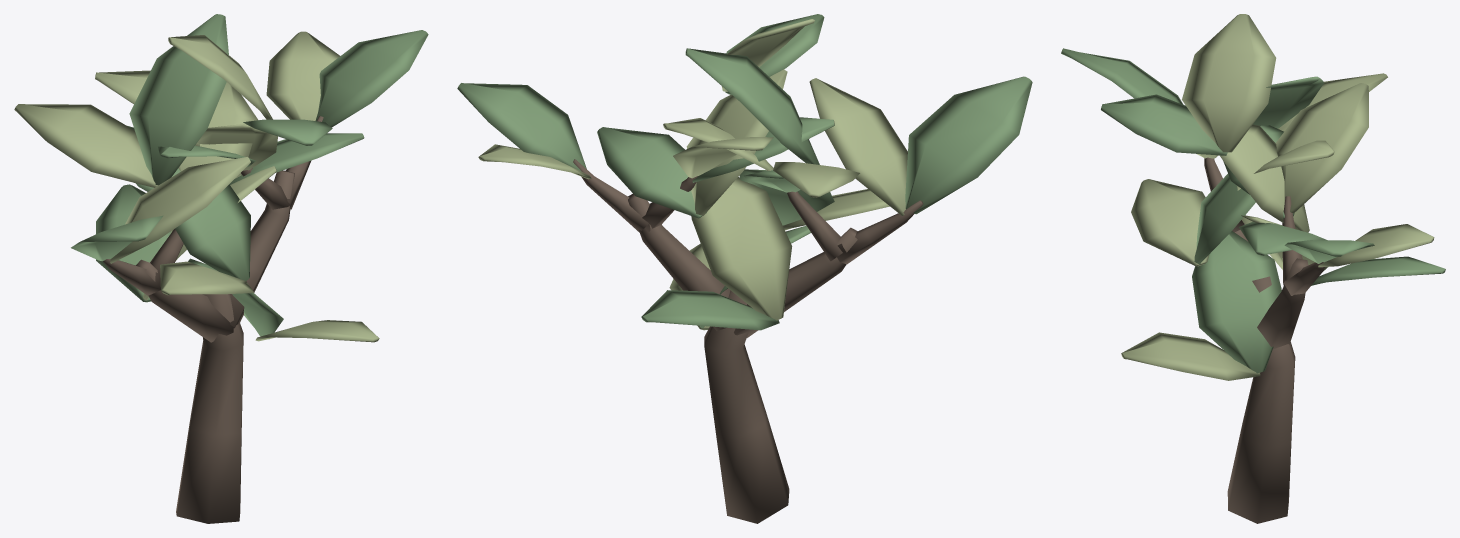
Rendered from shrub_broadleaf.glb.
3 renders of one model, left to right at view 1: azimuth 30°, elevation 25°; view 2: azimuth 150°, elevation 25°; view 3: azimuth 270°, elevation 25°, orthographic. The views are drawn at different scales.
Parts seen in each view (by area): view 1: shrub_broadleaf; view 2: shrub_broadleaf; view 3: shrub_broadleaf.
Boxes of the visible parts, bbox=[...] form: shrub_broadleaf: bbox=[14, 14, 428, 523]; shrub_broadleaf: bbox=[457, 14, 1032, 523]; shrub_broadleaf: bbox=[1061, 14, 1445, 523].
Bounding box in the file's own units: 1.29 × 1.35 × 0.9922.
